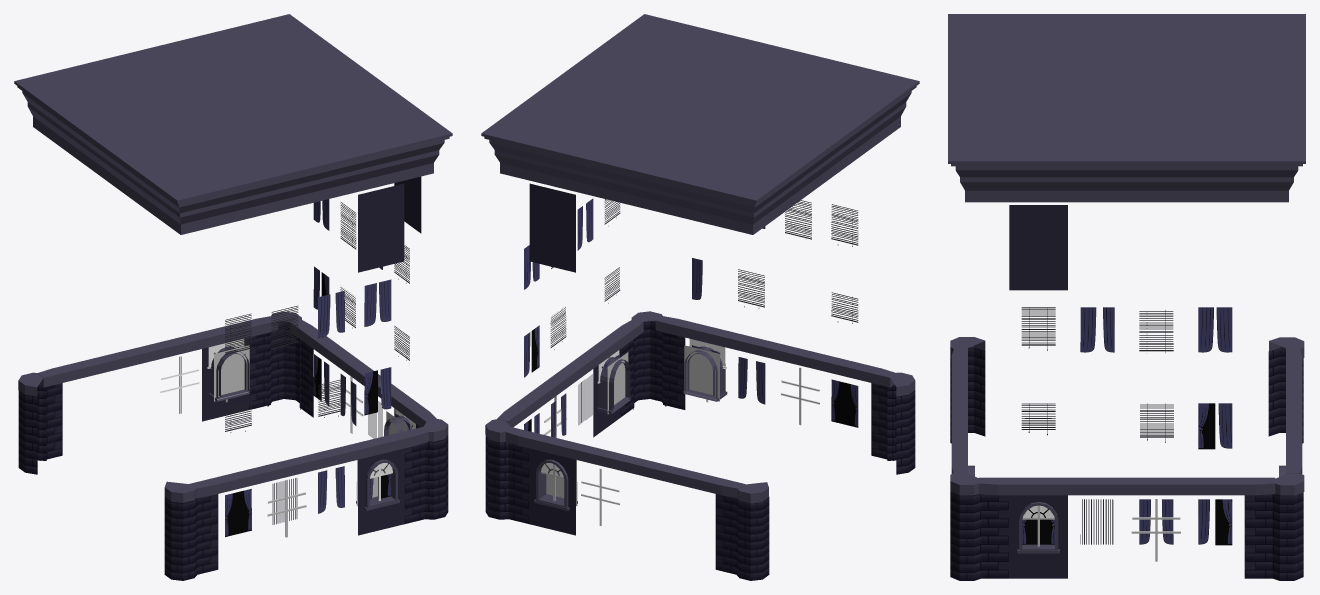
Rendered from NewBuilding1.fbx.
3 renders of one model, left to right at view 1: azimuth 30°, elevation 25°; view 2: azimuth 150°, elevation 25°; view 3: azimuth 270°, elevation 25°, orthographic. The views are drawn at different scales.
Visible parts, largest first — view 1: B1Top, FloorR_M, FloorL_M, B1WallL2, B1WallL1, B1WallL4_L, FloorM_M, B1WallMid4_R, B1WallR4_R, B1WallR1, B1WallMid4_L, B1WallL3_L (+17 smaller); view 2: B1Top, FloorL_M, FloorR_M, B1WallR2, FloorM_M, B1WallR1, B1WallR4_R, B1WallMid4_L, B1WallL4_L, B1WallMid4_R, B1WallMid1, B1WallR3_R (+16 smaller); view 3: B1Top, FloorM_M, B1WallMid2, B1WallMid1, B1WallMid4_L, B1WallMid4_R, B1WallMid3_L, B1WallMid3_R, FloorR_M, FloorL_M, B1WallL4_L, B1WallR4_R (+14 smaller).
Boxes of the visible parts, <box> form: B1Top: <box>14,14,452,234</box>; FloorR_M: <box>37,316,278,387</box>; FloorL_M: <box>190,427,429,498</box>; B1WallL2: <box>358,183,404,272</box>; B1WallL1: <box>356,448,404,535</box>; B1WallL4_L: <box>164,497,197,580</box>; FloorM_M: <box>290,319,436,427</box>; B1WallMid4_R: <box>267,321,300,409</box>; B1WallR4_R: <box>18,384,46,474</box>; B1WallR1: <box>202,337,250,421</box>; B1WallMid4_L: <box>425,434,448,519</box>; B1WallL3_L: <box>197,494,218,574</box>; B1Top: <box>481,14,919,234</box>; FloorL_M: <box>655,316,896,387</box>; FloorR_M: <box>504,427,744,497</box>; B1WallR2: <box>529,183,575,272</box>; FloorM_M: <box>497,319,643,427</box>; B1WallR1: <box>529,448,577,535</box>; B1WallR4_R: <box>736,497,769,580</box>; B1WallMid4_L: <box>633,321,666,409</box>; B1WallL4_L: <box>887,384,915,474</box>; B1WallMid4_R: <box>485,435,508,519</box>; B1WallMid1: <box>593,349,631,437</box>; B1WallR3_R: <box>715,494,736,574</box>; B1Top: <box>948,14,1305,202</box>; FloorM_M: <box>978,477,1275,495</box>; B1WallMid2: <box>1009,205,1067,290</box>; B1WallMid1: <box>1009,495,1067,578</box>; B1WallMid4_L: <box>950,492,981,580</box>; B1WallMid4_R: <box>1272,492,1303,580</box>; B1WallMid3_L: <box>981,494,1009,578</box>; B1WallMid3_R: <box>1244,494,1272,578</box>; FloorR_M: <box>1286,348,1302,473</box>; FloorL_M: <box>951,348,967,473</box>; B1WallL4_L: <box>950,347,985,443</box>; B1WallR4_R: <box>1268,347,1303,443</box>.
Bounding box in the file's own units: 1489 × 1965 × 1520.
